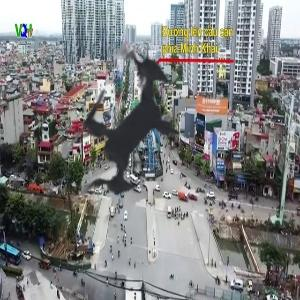drone: (6, 11, 250, 255)
